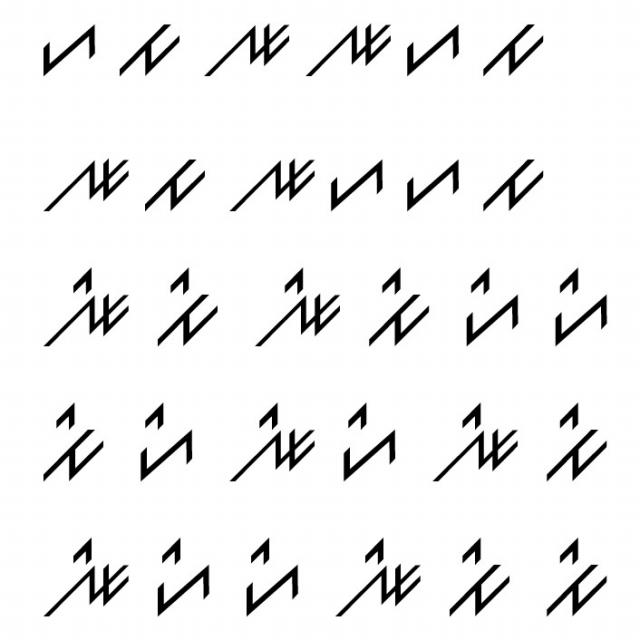ha: (324, 140, 389, 220), (28, 22, 103, 86), (402, 18, 470, 84), (395, 147, 463, 212)
hi: (454, 258, 521, 354), (335, 401, 405, 486), (149, 532, 215, 622), (543, 267, 612, 352), (131, 401, 202, 481), (239, 536, 304, 622)
mba: (473, 142, 547, 220), (480, 8, 553, 83), (142, 153, 212, 217), (114, 23, 185, 86)
mbi: (29, 399, 111, 488), (362, 265, 435, 354), (545, 401, 619, 488), (543, 534, 616, 622), (149, 263, 222, 349), (443, 535, 513, 618)
nda: (31, 144, 136, 224), (200, 18, 295, 84), (229, 147, 319, 216), (304, 17, 394, 86)
ndi: (421, 398, 522, 499), (28, 530, 136, 618), (34, 258, 132, 351), (228, 399, 319, 496), (330, 534, 427, 622), (253, 267, 343, 347)
